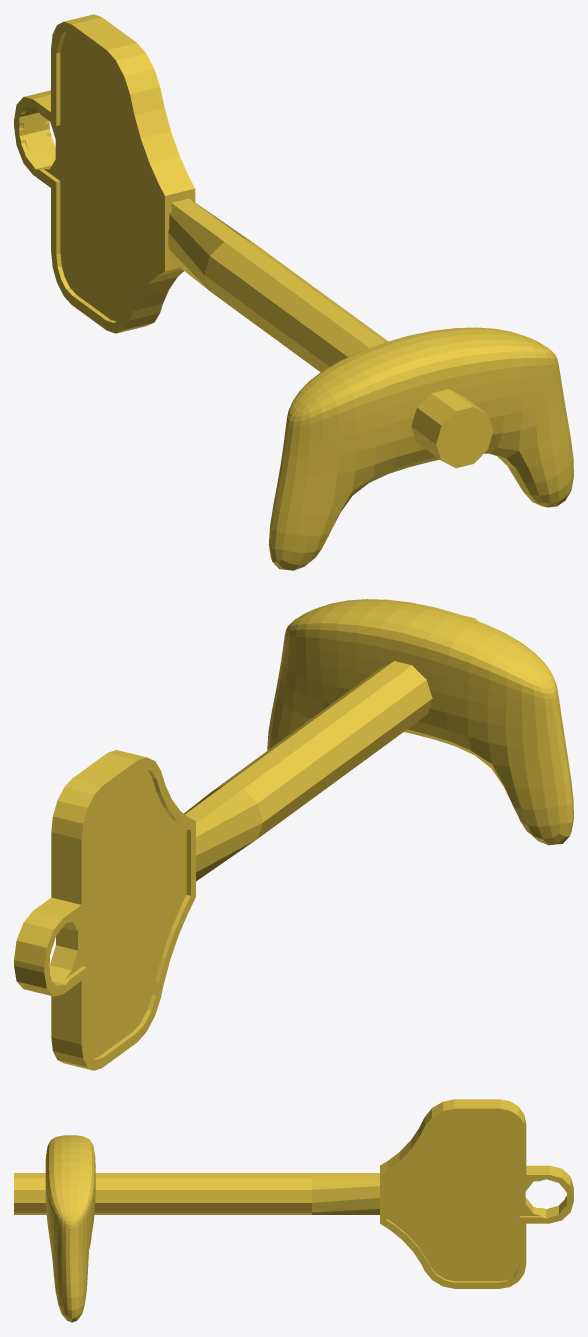
The model's file is LlaveLoca.fbx.
3 views of the same model, one above another, from view 1: azimuth 30°, elevation 25°; view 2: azimuth 150°, elevation 25°; view 3: azimuth 270°, elevation 25° (orthographic). The views are drawn at different scales.
Visible parts, largest first — view 1: LLAVE; view 2: LLAVE; view 3: LLAVE.
Boxes of the visible parts, box(x1,y1,x2,y2) form: LLAVE: box(14, 14, 573, 570); LLAVE: box(14, 599, 573, 1070); LLAVE: box(14, 1099, 573, 1322).
Bounding box in the file's own units: 7.42 × 6.57 × 18.51.
